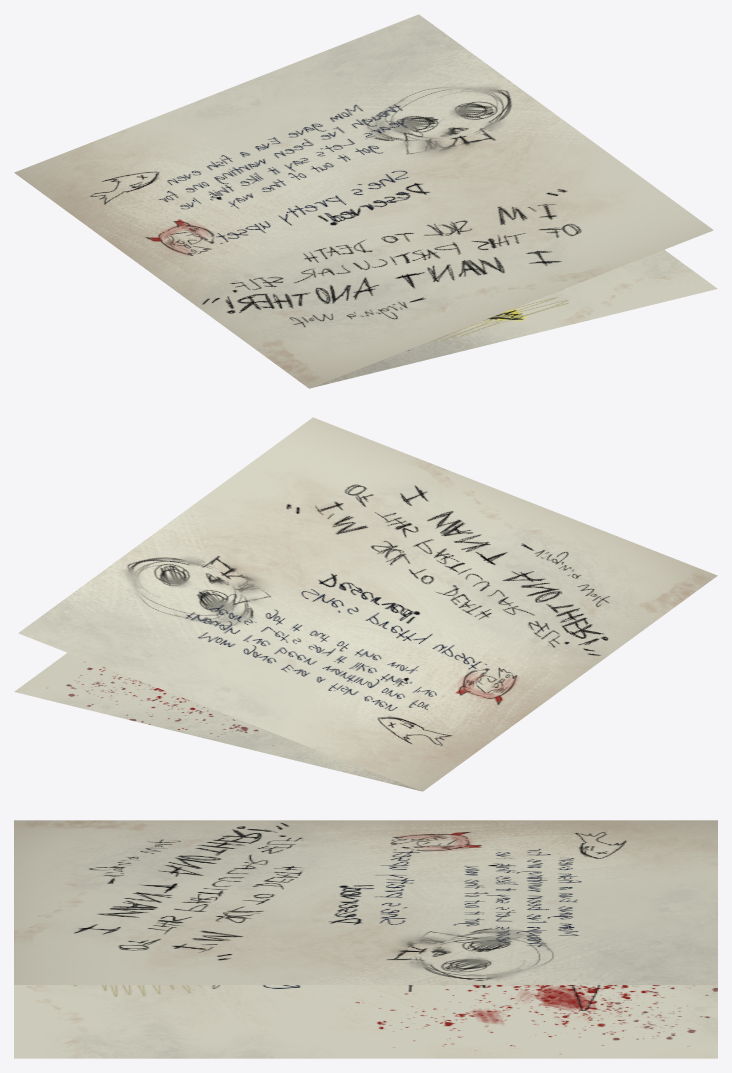
File: Turnable_page_diary2.fbx
3 renders of one model, top to bottom at view 1: azimuth 30°, elevation 25°; view 2: azimuth 150°, elevation 25°; view 3: azimuth 270°, elevation 25°, orthographic. The views are drawn at different scales.
Visible parts, largest first — view 1: p3, p4; view 2: p3, p4; view 3: p3, p4.
Part boxes in pixels (x1,y1,x2,y2): p3: (14,14,713,388); p4: (310,249,717,388); p3: (18,417,717,791); p4: (14,652,421,791); p3: (14,820,717,984); p4: (14,985,717,1058).
Bounding box in the file's own units: 160 × 22.27 × 200.
Materials: 1 (1 with a texture image).
